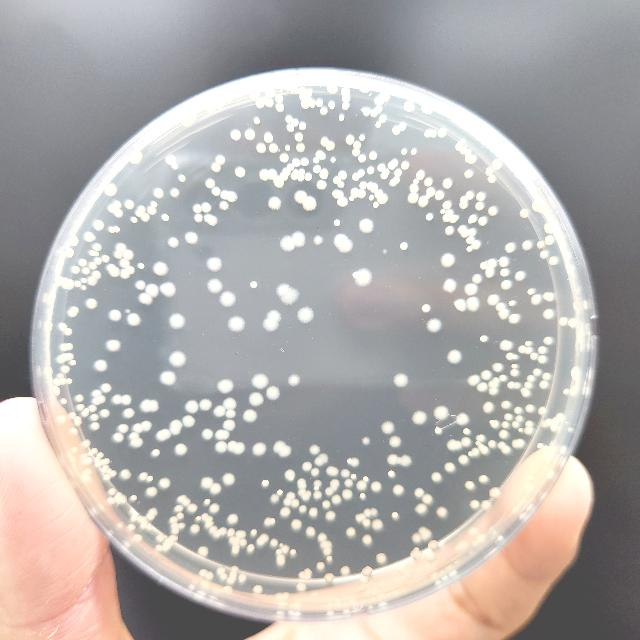colony: (280, 287, 300, 305), (354, 268, 372, 286), (220, 290, 237, 308), (227, 316, 245, 332), (169, 312, 185, 330), (152, 260, 168, 278), (170, 351, 187, 367), (160, 370, 177, 386), (160, 282, 177, 298), (302, 196, 318, 212), (280, 236, 296, 252), (252, 373, 268, 389), (218, 378, 234, 394), (206, 256, 222, 272), (426, 317, 442, 333), (446, 348, 462, 364), (434, 404, 450, 420), (412, 410, 428, 426), (298, 307, 314, 323), (292, 230, 306, 248), (208, 278, 222, 294), (358, 218, 374, 232), (338, 239, 354, 253), (263, 318, 279, 332), (394, 372, 408, 388), (441, 252, 455, 268), (181, 112, 197, 126), (532, 200, 548, 214), (466, 296, 479, 312), (268, 197, 282, 211), (294, 190, 308, 204), (266, 386, 280, 400), (249, 392, 263, 406), (243, 409, 257, 423), (127, 312, 141, 326), (456, 412, 470, 426), (94, 358, 108, 372), (444, 278, 456, 294), (223, 396, 237, 409), (106, 341, 122, 352), (288, 373, 300, 387), (334, 233, 348, 245), (145, 284, 159, 296), (138, 293, 152, 305), (253, 442, 267, 454), (276, 284, 290, 296), (464, 283, 478, 295), (454, 298, 466, 312), (104, 184, 118, 196), (131, 151, 143, 165), (162, 537, 174, 551), (114, 492, 128, 504), (266, 310, 282, 320), (570, 365, 580, 381), (205, 214, 218, 226), (382, 421, 394, 434), (182, 415, 195, 427), (222, 473, 235, 485), (234, 166, 246, 178), (214, 405, 226, 417), (199, 399, 211, 411), (186, 232, 198, 244), (168, 236, 180, 248), (110, 309, 122, 321), (186, 401, 198, 413), (234, 442, 246, 454), (284, 469, 296, 481), (279, 445, 291, 457), (290, 518, 302, 530), (487, 294, 499, 306), (498, 308, 510, 320), (543, 308, 555, 320), (468, 374, 480, 386), (372, 518, 384, 530), (86, 298, 98, 310), (109, 266, 121, 278), (414, 504, 428, 514), (377, 193, 389, 204), (202, 428, 214, 439), (273, 441, 285, 452), (201, 477, 213, 488), (437, 506, 448, 518), (120, 468, 132, 479), (94, 219, 105, 231), (175, 444, 188, 454), (411, 550, 424, 560), (223, 420, 235, 430), (202, 202, 212, 214), (218, 201, 230, 211), (228, 191, 238, 203), (214, 155, 226, 165), (244, 130, 256, 140), (230, 130, 242, 140), (316, 180, 328, 190), (154, 187, 164, 199), (268, 142, 278, 154), (268, 168, 278, 180), (274, 176, 284, 188), (389, 436, 401, 446), (215, 442, 227, 452), (198, 546, 210, 556), (324, 573, 336, 583), (146, 486, 158, 496), (276, 554, 286, 566), (418, 195, 428, 207), (408, 192, 418, 204), (404, 102, 416, 112), (421, 105, 433, 115), (499, 256, 509, 268), (508, 314, 520, 324), (500, 340, 512, 350), (543, 292, 555, 302), (483, 401, 493, 413), (444, 463, 456, 473), (489, 488, 501, 498), (422, 494, 434, 504), (393, 484, 405, 494), (421, 528, 431, 540), (376, 552, 386, 564), (362, 566, 374, 576), (387, 453, 397, 465), (402, 454, 412, 466), (118, 424, 130, 434), (131, 438, 143, 448), (124, 408, 136, 418), (122, 394, 132, 406), (84, 232, 96, 242), (358, 84, 372, 92), (142, 398, 150, 412), (337, 197, 348, 207), (327, 84, 338, 94), (431, 471, 442, 481), (428, 540, 439, 550), (342, 489, 353, 499), (114, 432, 125, 442), (170, 419, 182, 428), (82, 473, 94, 482), (220, 95, 233, 103), (292, 157, 302, 167), (296, 143, 306, 153), (294, 132, 304, 142), (314, 235, 324, 245), (192, 203, 202, 213), (205, 178, 215, 188), (211, 163, 221, 173), (256, 143, 266, 153), (264, 133, 274, 143), (338, 170, 348, 180), (316, 150, 326, 160), (170, 188, 180, 198), (135, 280, 145, 290), (310, 444, 320, 454), (302, 461, 312, 471), (210, 483, 220, 493), (228, 514, 238, 524), (306, 526, 316, 536), (340, 468, 350, 478), (357, 480, 367, 490), (371, 481, 381, 491), (332, 494, 342, 504), (325, 510, 335, 520), (314, 456, 324, 466), (319, 453, 329, 463), (223, 584, 233, 594), (253, 584, 263, 594), (346, 526, 356, 536), (160, 478, 170, 488), (318, 532, 328, 542), (162, 429, 172, 439), (166, 154, 176, 164), (442, 179, 452, 189), (492, 160, 502, 170), (472, 274, 482, 284), (505, 243, 515, 253), (544, 235, 554, 245), (548, 256, 558, 266), (514, 271, 524, 281), (501, 280, 511, 290), (496, 302, 506, 312), (558, 316, 568, 326), (477, 382, 487, 392), (481, 370, 491, 380), (492, 362, 502, 372), (458, 455, 468, 465), (480, 499, 490, 509), (468, 526, 478, 536), (414, 487, 424, 497), (412, 532, 422, 542), (362, 534, 372, 544), (426, 551, 436, 561), (142, 421, 152, 431), (100, 408, 110, 418), (102, 383, 112, 393), (87, 276, 97, 286), (92, 270, 102, 280), (124, 249, 134, 259), (116, 242, 126, 252), (120, 258, 130, 268), (120, 269, 130, 279), (215, 100, 225, 110), (226, 409, 237, 418), (378, 92, 389, 101), (346, 134, 354, 146), (260, 169, 268, 181), (320, 540, 332, 548), (320, 168, 328, 180), (544, 222, 552, 234), (532, 294, 540, 306), (151, 400, 159, 412), (52, 384, 60, 396), (45, 365, 53, 377), (194, 213, 203, 223), (115, 208, 124, 218), (350, 458, 360, 467), (209, 503, 219, 512), (270, 493, 280, 502), (323, 546, 332, 556), (265, 89, 275, 98), (438, 128, 447, 138), (472, 240, 481, 250), (488, 206, 497, 216), (374, 96, 384, 105), (488, 258, 497, 268), (498, 429, 508, 438), (462, 436, 471, 446), (108, 204, 118, 213), (115, 162, 124, 172), (228, 441, 236, 452), (568, 317, 576, 328), (478, 217, 487, 226), (502, 399, 511, 408), (280, 153, 288, 163), (300, 158, 310, 166), (220, 190, 228, 200), (212, 187, 220, 197), (321, 137, 329, 147), (326, 141, 334, 151), (369, 150, 377, 160), (359, 180, 367, 190), (350, 188, 358, 198), (370, 183, 378, 193), (125, 200, 135, 208), (280, 172, 288, 182), (304, 172, 312, 182), (274, 95, 284, 103), (222, 430, 230, 440), (215, 430, 223, 440), (280, 508, 290, 516), (286, 492, 296, 500), (290, 499, 300, 507), (308, 508, 318, 516), (325, 486, 333, 496), (238, 574, 248, 582), (296, 582, 306, 590), (316, 561, 326, 569), (340, 566, 350, 574), (190, 524, 200, 532), (188, 503, 198, 511), (182, 498, 192, 506), (260, 534, 270, 542), (282, 544, 290, 554), (158, 431, 166, 441), (170, 426, 180, 434), (300, 101, 310, 109), (250, 91, 260, 99), (392, 126, 400, 136), (416, 170, 424, 180), (426, 188, 436, 196), (409, 184, 419, 192), (436, 190, 444, 200), (442, 201, 452, 209), (464, 170, 474, 178), (360, 108, 370, 116), (486, 268, 494, 278), (522, 240, 530, 250), (520, 209, 528, 219), (544, 336, 552, 346), (538, 406, 548, 414), (447, 440, 455, 450), (464, 481, 474, 489), (478, 474, 488, 482), (470, 500, 480, 508), (476, 534, 486, 542), (360, 576, 370, 584), (236, 530, 246, 538), (149, 507, 159, 515), (134, 423, 142, 433), (114, 394, 122, 404), (83, 438, 91, 448), (74, 416, 82, 426), (70, 236, 78, 246), (138, 514, 148, 522), (206, 104, 216, 112), (170, 117, 180, 125), (333, 596, 343, 604), (313, 164, 321, 173), (148, 207, 156, 216), (174, 504, 183, 512), (445, 227, 453, 236), (449, 215, 458, 223), (422, 304, 431, 312), (418, 526, 427, 534), (378, 580, 387, 588), (92, 389, 101, 397), (68, 278, 74, 290), (62, 277, 68, 289), (61, 365, 70, 373), (550, 423, 558, 432), (423, 562, 432, 570), (98, 502, 106, 511), (196, 589, 208, 595), (491, 419, 499, 428), (330, 479, 340, 486), (92, 243, 102, 250), (46, 321, 52, 332), (250, 281, 258, 289), (333, 219, 341, 227), (299, 122, 307, 130), (291, 119, 299, 127), (333, 176, 341, 184), (312, 156, 320, 164), (353, 141, 361, 149), (352, 149, 360, 157), (358, 154, 366, 162), (352, 173, 360, 181), (358, 190, 366, 198), (375, 190, 383, 198), (178, 174, 186, 182), (142, 214, 150, 222), (138, 205, 146, 213), (114, 200, 122, 208), (290, 172, 298, 180), (282, 168, 290, 176), (276, 104, 284, 112), (265, 99, 273, 107), (256, 100, 264, 108), (342, 103, 350, 111), (400, 242, 408, 250), (362, 437, 370, 445), (152, 448, 160, 456), (311, 468, 319, 476), (284, 497, 292, 505), (345, 479, 353, 487), (322, 500, 330, 508), (199, 569, 207, 577), (206, 571, 214, 579), (217, 566, 225, 574), (227, 576, 235, 584), (247, 544, 255, 552), (240, 538, 248, 546), (178, 494, 186, 502), (227, 528, 235, 536), (257, 537, 265, 545), (270, 538, 278, 546), (209, 525, 217, 533), (213, 529, 221, 537), (316, 100, 324, 108), (398, 123, 406, 131), (379, 115, 387, 123), (401, 162, 409, 170), (424, 178, 432, 186), (466, 192, 474, 200), (460, 202, 468, 210), (476, 202, 484, 210), (476, 192, 484, 200), (487, 175, 495, 183), (486, 168, 494, 176), (442, 214, 450, 222), (466, 236, 474, 244), (468, 228, 476, 236), (461, 229, 469, 237), (454, 143, 462, 151), (460, 147, 468, 155), (424, 130, 432, 138), (370, 110, 378, 118), (378, 164, 386, 172), (387, 162, 395, 170), (537, 240, 545, 248), (540, 251, 548, 259), (500, 269, 508, 277), (538, 346, 546, 354), (530, 352, 538, 360), (538, 355, 546, 363), (542, 372, 550, 380), (526, 374, 534, 382), (514, 406, 522, 414), (526, 404, 534, 412), (540, 380, 548, 388), (522, 389, 530, 397), (525, 420, 533, 428), (515, 414, 523, 422), (511, 420, 519, 428), (488, 440, 496, 448), (497, 441, 505, 449), (501, 446, 509, 454), (476, 433, 484, 441), (454, 441, 462, 449), (480, 446, 488, 454), (460, 540, 468, 548), (370, 508, 378, 516), (362, 518, 370, 526), (358, 584, 366, 592), (283, 592, 291, 600), (232, 537, 240, 545), (232, 548, 240, 556), (157, 534, 165, 542), (155, 544, 163, 552), (140, 472, 148, 480), (108, 497, 116, 505), (92, 422, 100, 430), (70, 427, 78, 435), (58, 416, 66, 424), (76, 394, 84, 402), (89, 404, 97, 412), (98, 395, 106, 403), (64, 328, 72, 336), (59, 323, 67, 331), (71, 306, 79, 314), (74, 280, 82, 288), (72, 266, 80, 274), (115, 250, 123, 258), (127, 266, 135, 274), (102, 255, 110, 263), (94, 257, 102, 265), (89, 261, 97, 269), (79, 258, 87, 266), (66, 248, 74, 256), (66, 342, 74, 350), (141, 520, 149, 528), (170, 534, 178, 542), (556, 413, 564, 421), (365, 588, 373, 596), (415, 566, 423, 574), (396, 563, 404, 571), (400, 566, 408, 574), (393, 578, 401, 586), (398, 574, 406, 582), (519, 512, 527, 520), (123, 539, 131, 547), (342, 88, 351, 95), (358, 168, 364, 178), (326, 466, 332, 476), (230, 566, 240, 572), (205, 522, 215, 528), (488, 381, 498, 387), (488, 388, 498, 394), (570, 386, 576, 396), (524, 428, 534, 434), (518, 438, 524, 448), (146, 513, 156, 519), (130, 432, 140, 438), (68, 310, 78, 316), (56, 276, 62, 286), (576, 332, 582, 342), (448, 570, 458, 576), (276, 610, 286, 616), (402, 571, 412, 577), (51, 294, 57, 304), (286, 125, 294, 132), (162, 213, 170, 220), (287, 163, 295, 170), (262, 479, 270, 486), (314, 479, 322, 486), (178, 512, 185, 520), (394, 170, 402, 177), (469, 215, 476, 223), (458, 225, 466, 232), (469, 156, 476, 164), (479, 261, 486, 269), (499, 374, 506, 382), (510, 369, 518, 376), (504, 414, 512, 421), (364, 508, 371, 516), (359, 512, 366, 520), (77, 404, 85, 411), (342, 96, 351, 102), (332, 468, 338, 477), (512, 439, 518, 448), (109, 488, 118, 494), (62, 353, 68, 362), (548, 469, 554, 478), (389, 180, 396, 187), (286, 116, 292, 124), (332, 190, 338, 198), (368, 167, 374, 175), (172, 162, 178, 170), (136, 209, 142, 217), (297, 175, 305, 181), (320, 108, 328, 114), (329, 102, 335, 110), (265, 517, 271, 525), (300, 504, 306, 512), (314, 492, 322, 498), (298, 489, 306, 495), (298, 483, 306, 489), (298, 478, 306, 484), (220, 573, 228, 579), (230, 572, 238, 578), (311, 591, 319, 597), (298, 572, 306, 578), (304, 568, 312, 574), (304, 574, 312, 580), (170, 516, 178, 522), (202, 512, 208, 520), (221, 527, 227, 535), (171, 522, 179, 528), (172, 528, 180, 534), (310, 100, 316, 108), (412, 179, 420, 185), (426, 213, 432, 221), (460, 196, 468, 202), (464, 150, 472, 156), (464, 156, 472, 162), (376, 106, 382, 114), (392, 159, 398, 167), (382, 169, 390, 175), (380, 173, 388, 179), (527, 288, 533, 296), (506, 352, 512, 360), (534, 368, 540, 376), (514, 382, 520, 390), (492, 377, 500, 383), (524, 382, 532, 388), (462, 428, 470, 434), (518, 345, 524, 353), (472, 447, 478, 455), (356, 514, 362, 522), (276, 592, 282, 600), (228, 536, 236, 542), (134, 534, 142, 540), (128, 524, 136, 530), (132, 514, 138, 522), (110, 470, 118, 476), (92, 413, 98, 421), (73, 446, 79, 454), (93, 398, 101, 404), (56, 373, 64, 379), (54, 378, 60, 386), (82, 268, 90, 274), (107, 264, 115, 270), (68, 352, 74, 360), (57, 355, 63, 363), (81, 452, 87, 460), (84, 468, 92, 474), (284, 83, 290, 91), (290, 86, 298, 92), (560, 445, 566, 453), (540, 420, 546, 428), (553, 417, 559, 425), (406, 567, 414, 573), (327, 610, 335, 616), (92, 506, 98, 514), (114, 225, 120, 232), (394, 177, 401, 183), (479, 335, 486, 341), (478, 444, 484, 451), (104, 474, 110, 481), (61, 344, 67, 351), (95, 462, 102, 468), (584, 300, 588, 310), (580, 343, 584, 353), (378, 602, 388, 606), (528, 502, 532, 512), (48, 294, 52, 304), (254, 118, 260, 124), (338, 182, 344, 188), (359, 135, 365, 141), (373, 202, 379, 208), (382, 248, 388, 254), (353, 272, 359, 278), (151, 202, 157, 208), (132, 217, 138, 223), (139, 263, 145, 269), (299, 169, 305, 175), (338, 115, 344, 121), (350, 473, 356, 479), (363, 475, 369, 481), (388, 470, 394, 476), (204, 498, 210, 504), (251, 529, 257, 535), (269, 518, 275, 524), (360, 493, 366, 499), (306, 490, 312, 496), (147, 475, 153, 481), (179, 522, 185, 528), (276, 549, 282, 555), (204, 516, 213, 520), (306, 96, 312, 102), (300, 94, 306, 100), (306, 90, 312, 96), (300, 88, 306, 94), (375, 122, 381, 128), (466, 246, 472, 252), (508, 300, 514, 306), (525, 340, 531, 346), (508, 382, 514, 388), (502, 422, 508, 428), (537, 443, 543, 449), (543, 445, 549, 451), (526, 348, 532, 354), (435, 427, 441, 433), (472, 540, 478, 546), (392, 512, 398, 518), (100, 459, 106, 465), (98, 452, 104, 458), (92, 448, 98, 454), (106, 468, 112, 474), (70, 412, 76, 418), (61, 398, 67, 404), (82, 411, 88, 417), (67, 378, 73, 384), (70, 360, 76, 366), (61, 378, 67, 384), (81, 277, 87, 283), (118, 522, 124, 528), (87, 458, 93, 464), (82, 459, 88, 465), (497, 535, 503, 541), (527, 474, 533, 480), (442, 575, 448, 581), (189, 584, 195, 590), (368, 604, 374, 610), (343, 608, 349, 614), (289, 610, 295, 616), (58, 258, 64, 264), (56, 266, 62, 272), (286, 144, 290, 152), (340, 190, 344, 198), (368, 182, 372, 190), (330, 486, 338, 490), (302, 496, 310, 500), (445, 210, 453, 214), (432, 130, 436, 138), (397, 456, 401, 464), (546, 419, 550, 427), (434, 580, 442, 584), (95, 457, 102, 461), (350, 196, 354, 202), (330, 158, 336, 162), (368, 196, 374, 200), (262, 98, 266, 104), (126, 308, 130, 314), (278, 489, 282, 495), (348, 458, 352, 464), (326, 556, 332, 560), (290, 550, 296, 554), (402, 149, 406, 155), (412, 149, 416, 155), (426, 194, 430, 200), (564, 389, 568, 395), (520, 388, 526, 392), (414, 547, 420, 551), (131, 496, 137, 500), (106, 458, 110, 464), (103, 465, 109, 469), (100, 468, 106, 472), (148, 524, 152, 530), (84, 408, 90, 412), (82, 285, 86, 291), (90, 250, 94, 256), (110, 227, 114, 233), (489, 418, 493, 424), (295, 612, 301, 616), (294, 170, 298, 174), (314, 486, 318, 490), (279, 543, 283, 547), (197, 516, 201, 520), (441, 210, 445, 214), (468, 219, 472, 223), (460, 140, 464, 144), (512, 355, 516, 359), (512, 364, 516, 368), (519, 428, 523, 432), (476, 441, 480, 445), (468, 452, 472, 456), (456, 546, 460, 550), (232, 546, 240, 548), (88, 452, 92, 456), (95, 252, 99, 256), (295, 90, 299, 94), (98, 466, 102, 469), (568, 426, 570, 432), (278, 148, 280, 152)
